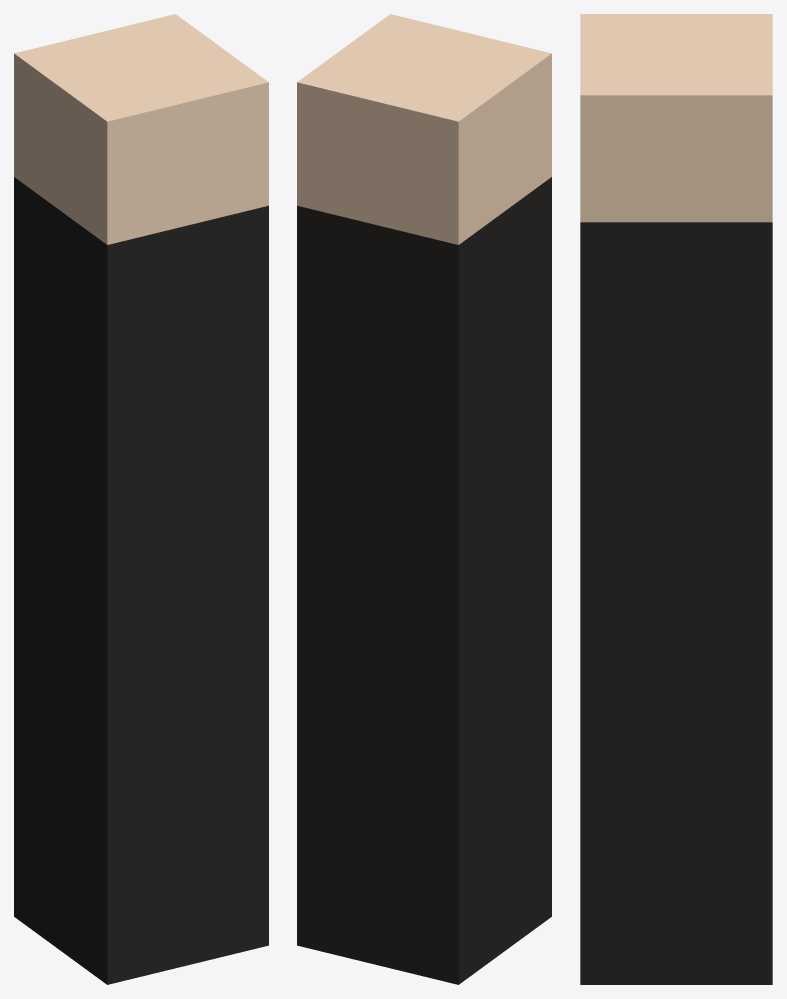
Rendered from GardenLight.fbx.
3 renders of one model, left to right at view 1: azimuth 30°, elevation 25°; view 2: azimuth 150°, elevation 25°; view 3: azimuth 270°, elevation 25°, orthographic. The views are drawn at different scales.
Parts seen in each view (by area): view 1: Cube, Cube.001; view 2: Cube, Cube.001; view 3: Cube, Cube.001.
Part boxes in pixels (bbox=[...]): Cube: bbox=[14, 177, 268, 984]; Cube.001: bbox=[14, 14, 268, 244]; Cube: bbox=[297, 177, 551, 984]; Cube.001: bbox=[297, 14, 551, 244]; Cube: bbox=[580, 222, 772, 984]; Cube.001: bbox=[580, 14, 772, 222].
Size of the model in its own units: 38.12 by 195 by 38.12.
